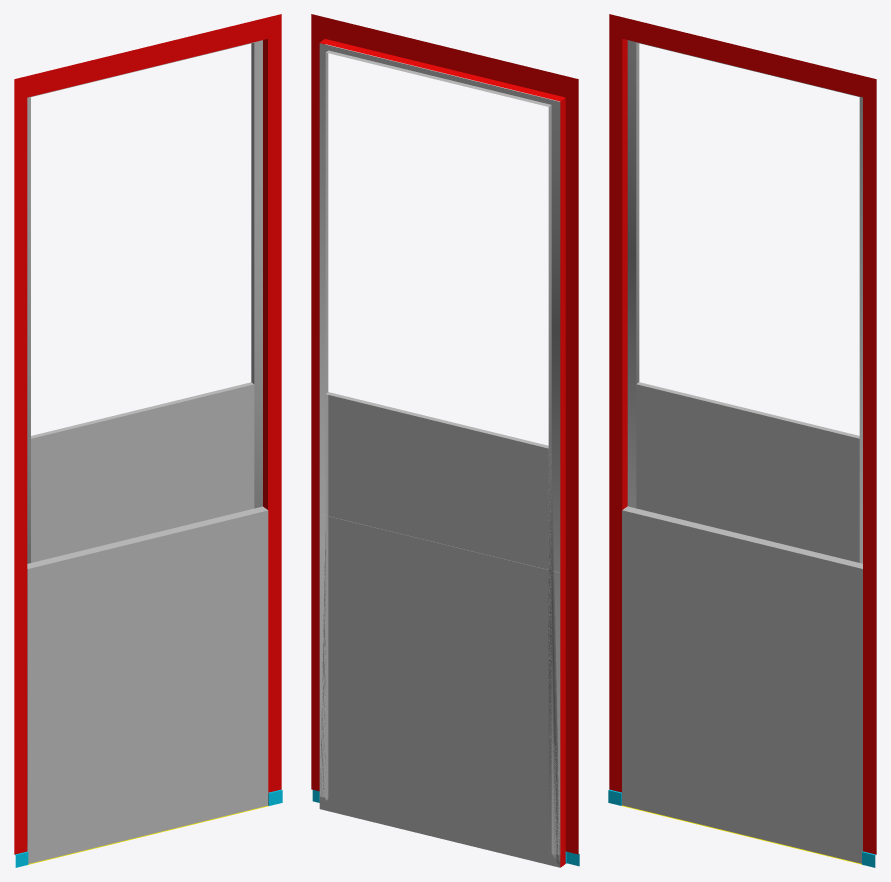
Rendered from SmM_Big_Window.fbx.
The picture shows the model from 3 angles, left to right: view 1: azimuth 30°, elevation 25°; view 2: azimuth 150°, elevation 25°; view 3: azimuth 330°, elevation 25°; orthographic projection.
Visible parts, largest first — view 1: SM_Window_C; view 2: SM_Window_C; view 3: SM_Window_C.
Boxes of the visible parts, left/top/right/bottom form: SM_Window_C: left=14, top=14, right=282, bottom=867; SM_Window_C: left=311, top=14, right=579, bottom=867; SM_Window_C: left=608, top=14, right=876, bottom=867.
Size of the model in its own units: 156 by 438 by 9.24.
